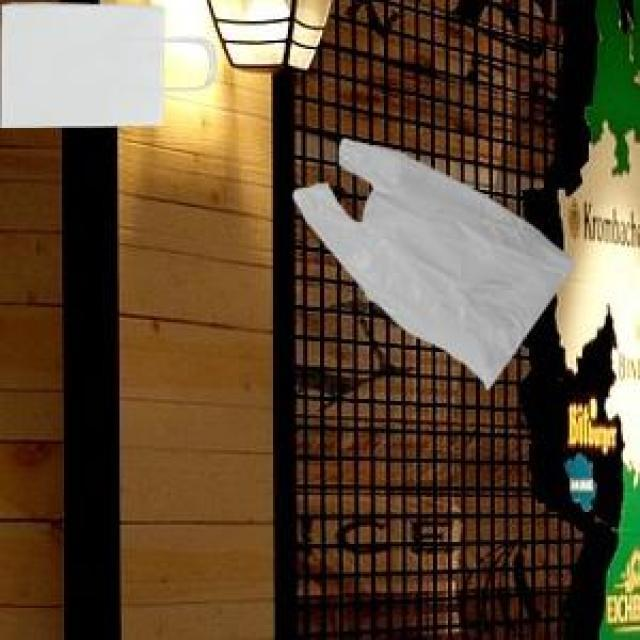paper: (0, 0, 201, 124)
